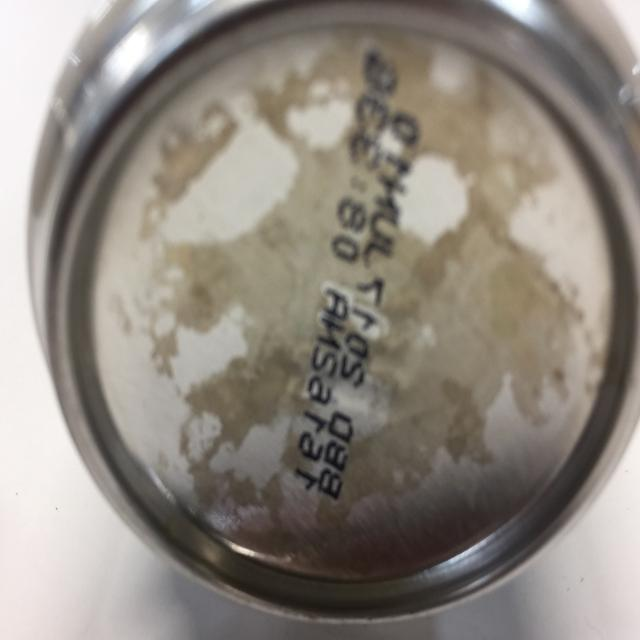metal: (26, 0, 640, 625)
